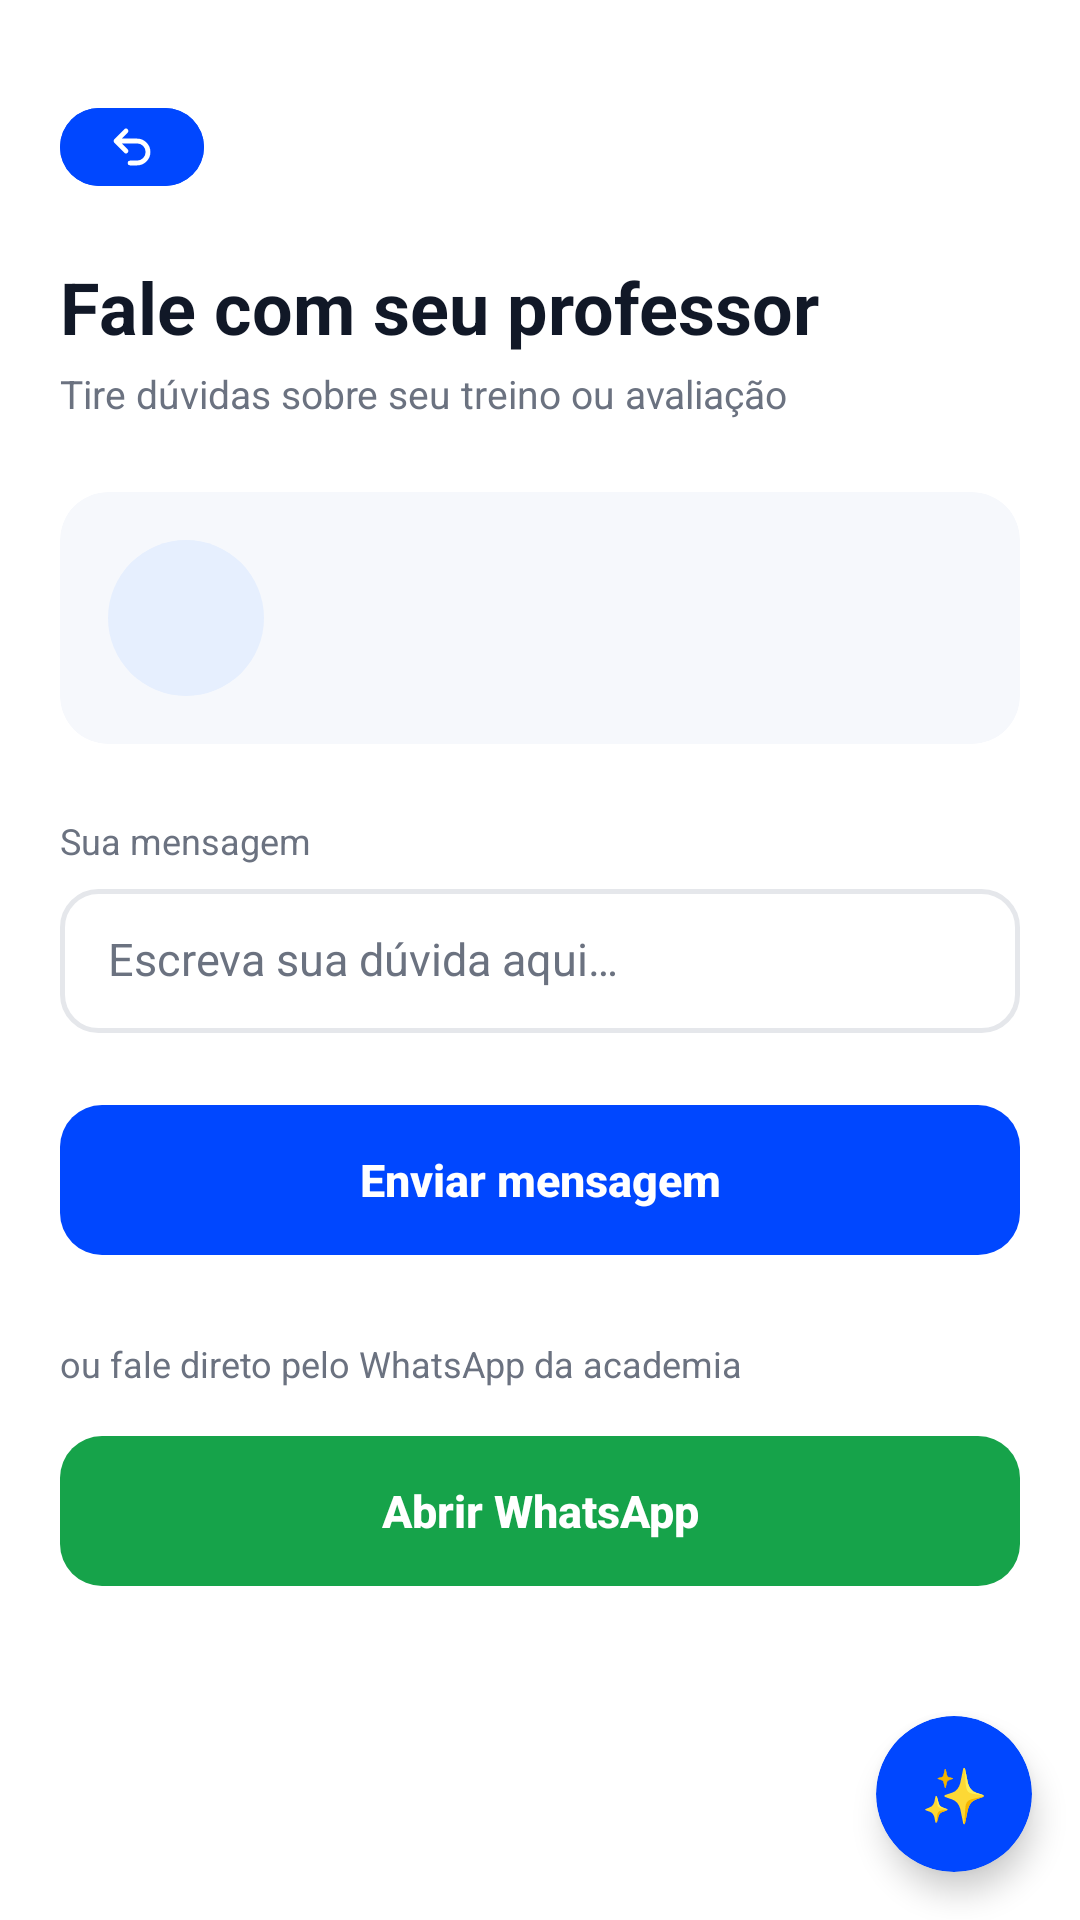

Locate icon controls on the screen. Image size 1080×1920, boxes as (x1, y1, x2, y2).
Voltar: (60, 108, 204, 186)
